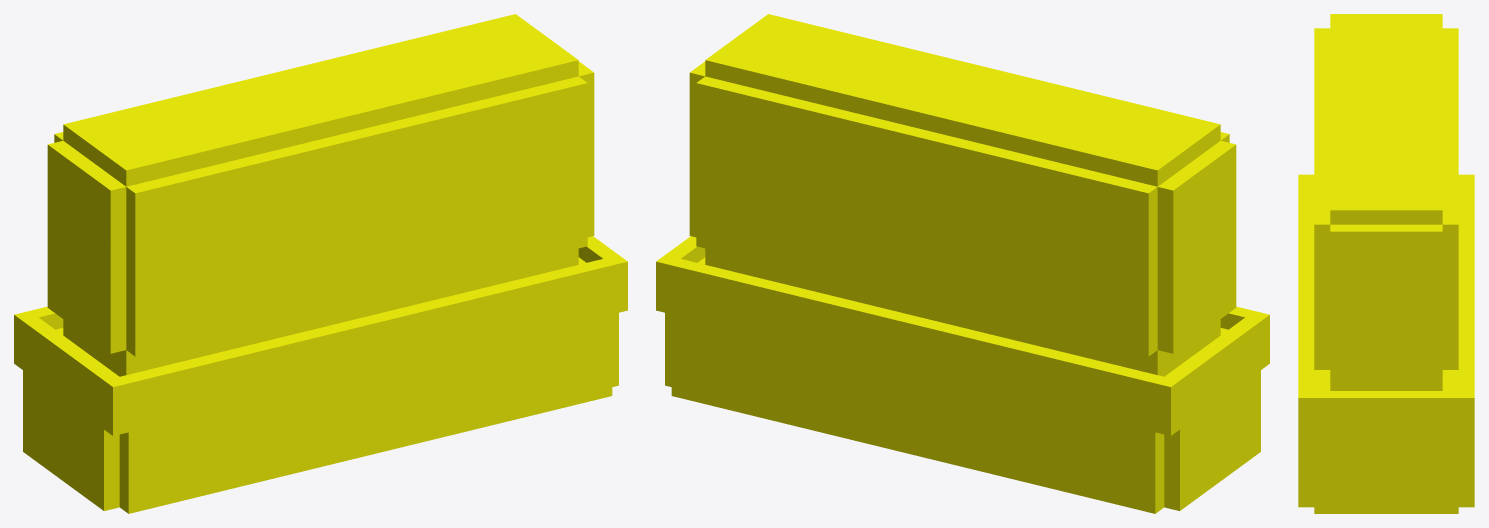
Rendered from voxel-palace-potted-bush.glb.
3 renders of one model, left to right at view 1: azimuth 30°, elevation 25°; view 2: azimuth 150°, elevation 25°; view 3: azimuth 270°, elevation 25°, orthographic. The views are drawn at different scales.
Parts seen in each view (by area): view 1: ObjObject.025; view 2: ObjObject.025; view 3: ObjObject.025.
Part boxes in pixels (x1,y1,x2,y2): ObjObject.025: (14,14,627,513); ObjObject.025: (656,14,1269,513); ObjObject.025: (1298,14,1474,513).
Size of the model in its own units: 3.3 by 2 by 1.1.
